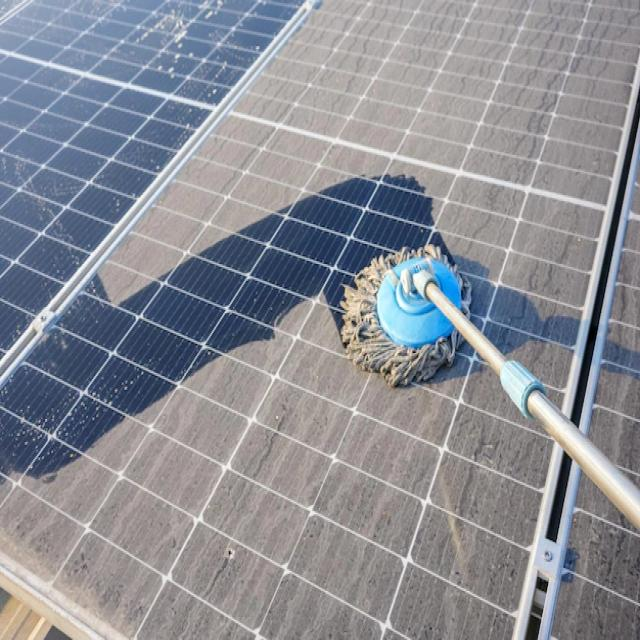dust-solar-panel: (1, 0, 640, 640)
